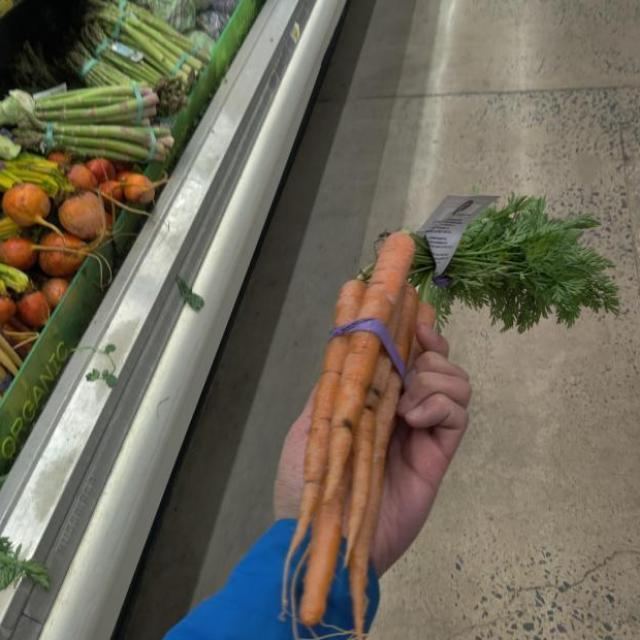Carrots: (301, 175, 636, 639)
